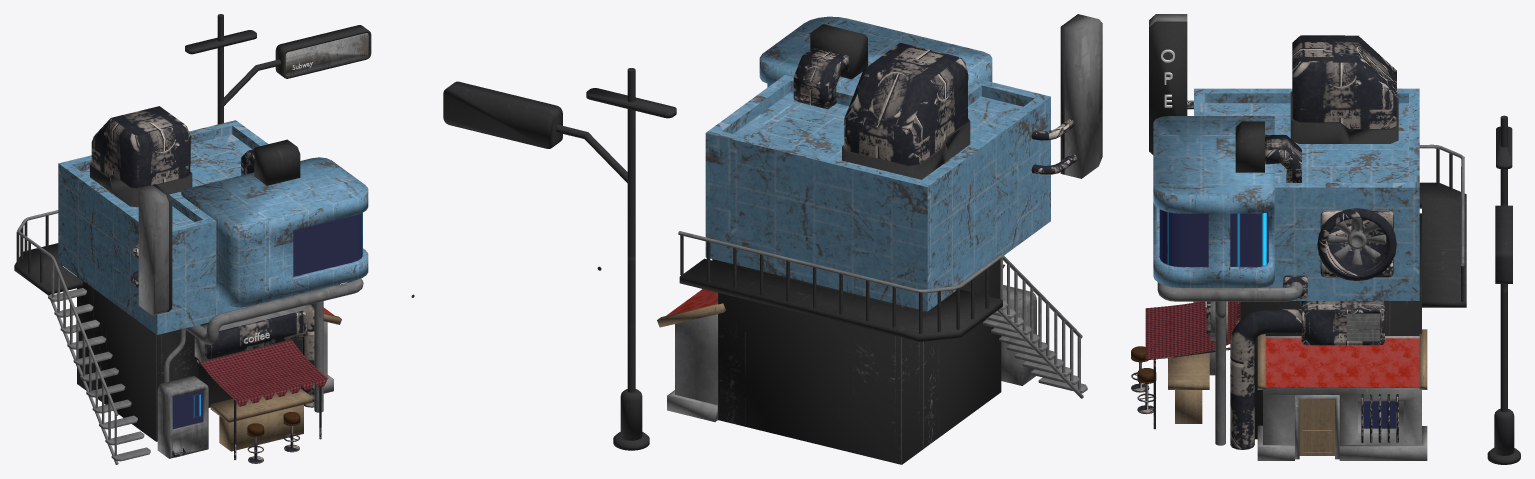
Rendered from Casa 4.fbx.
3 renders of one model, left to right at view 1: azimuth 30°, elevation 25°; view 2: azimuth 150°, elevation 25°; view 3: azimuth 270°, elevation 25°, orthographic. The views are drawn at different scales.
Parts seen in each view (by area): view 1: Cube.005; view 2: Cube.005; view 3: Cube.005.
Boxes of the visible parts, box(x1,y1,x2,y2) form: Cube.005: box(14, 14, 414, 464); Cube.005: box(443, 14, 1102, 464); Cube.005: box(1131, 14, 1520, 464).
Bounding box in the file's own units: 1110 × 833 × 860.
